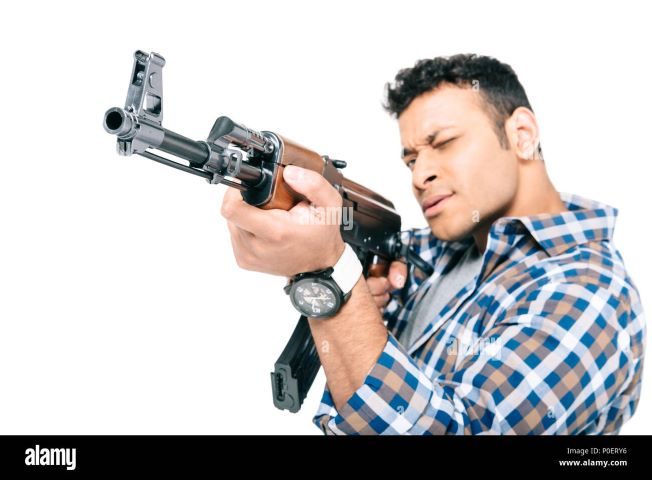rifle: (86, 49, 401, 271)
